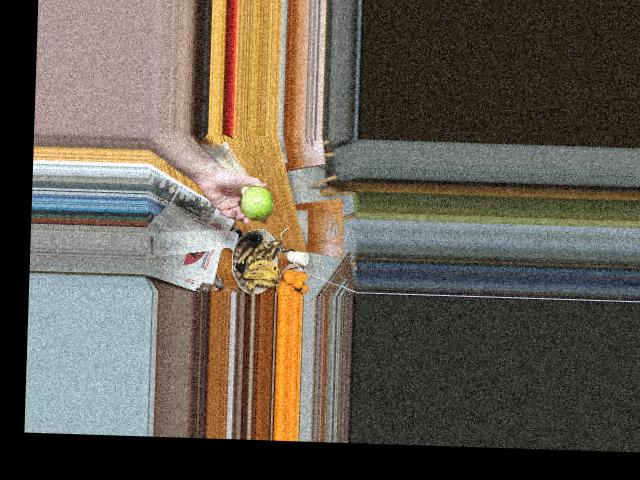apple: (239, 185, 276, 221)
